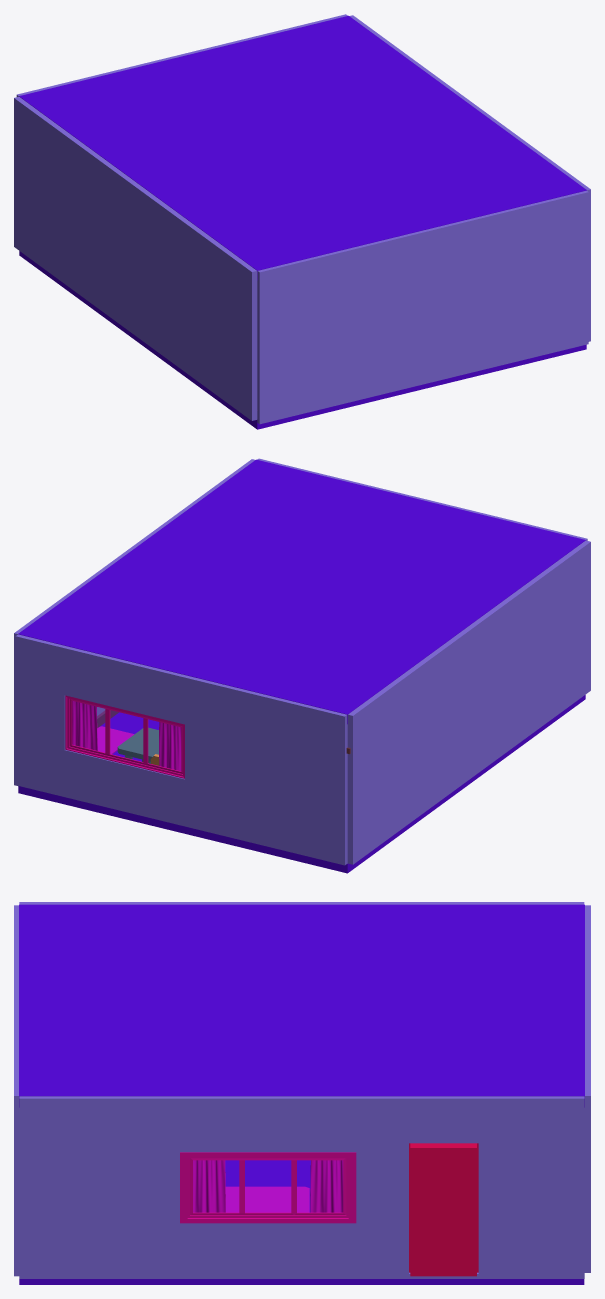
The picture shows the model from 3 angles, top to bottom: view 1: azimuth 30°, elevation 25°; view 2: azimuth 150°, elevation 25°; view 3: azimuth 270°, elevation 25°; orthographic projection. The views are drawn at different scales.
Visible parts, largest first — view 1: walls.003, ground.003; view 2: walls.003, ground.003, window.008, curtain.001, table.003, tapis porte.001; view 3: ground.003, walls.003, noor.003, window.008, curtain.002, tapis rectangles.
Part boxes in pixels (x1=…): walls.003: x1=14, y1=14, x2=590, y2=424; ground.003: x1=19, y1=15, x2=586, y2=429; walls.003: x1=14, y1=458, x2=590, y2=865; ground.003: x1=18, y1=459, x2=585, y2=873; window.008: x1=65, y1=695, x2=184, y2=778; curtain.001: x1=72, y1=701, x2=181, y2=770; table.003: x1=117, y1=727, x2=158, y2=763; tapis porte.001: x1=97, y1=726, x2=134, y2=754; ground.003: x1=19, y1=904, x2=584, y2=1284; walls.003: x1=14, y1=902, x2=590, y2=1278; noor.003: x1=409, y1=1143, x2=478, y2=1276; window.008: x1=180, y1=1152, x2=356, y2=1223; curtain.002: x1=193, y1=1160, x2=343, y2=1212; tapis rectangles: x1=225, y1=1186, x2=309, y2=1212.
Size of the model in its own units: 485 by 214 by 591.
